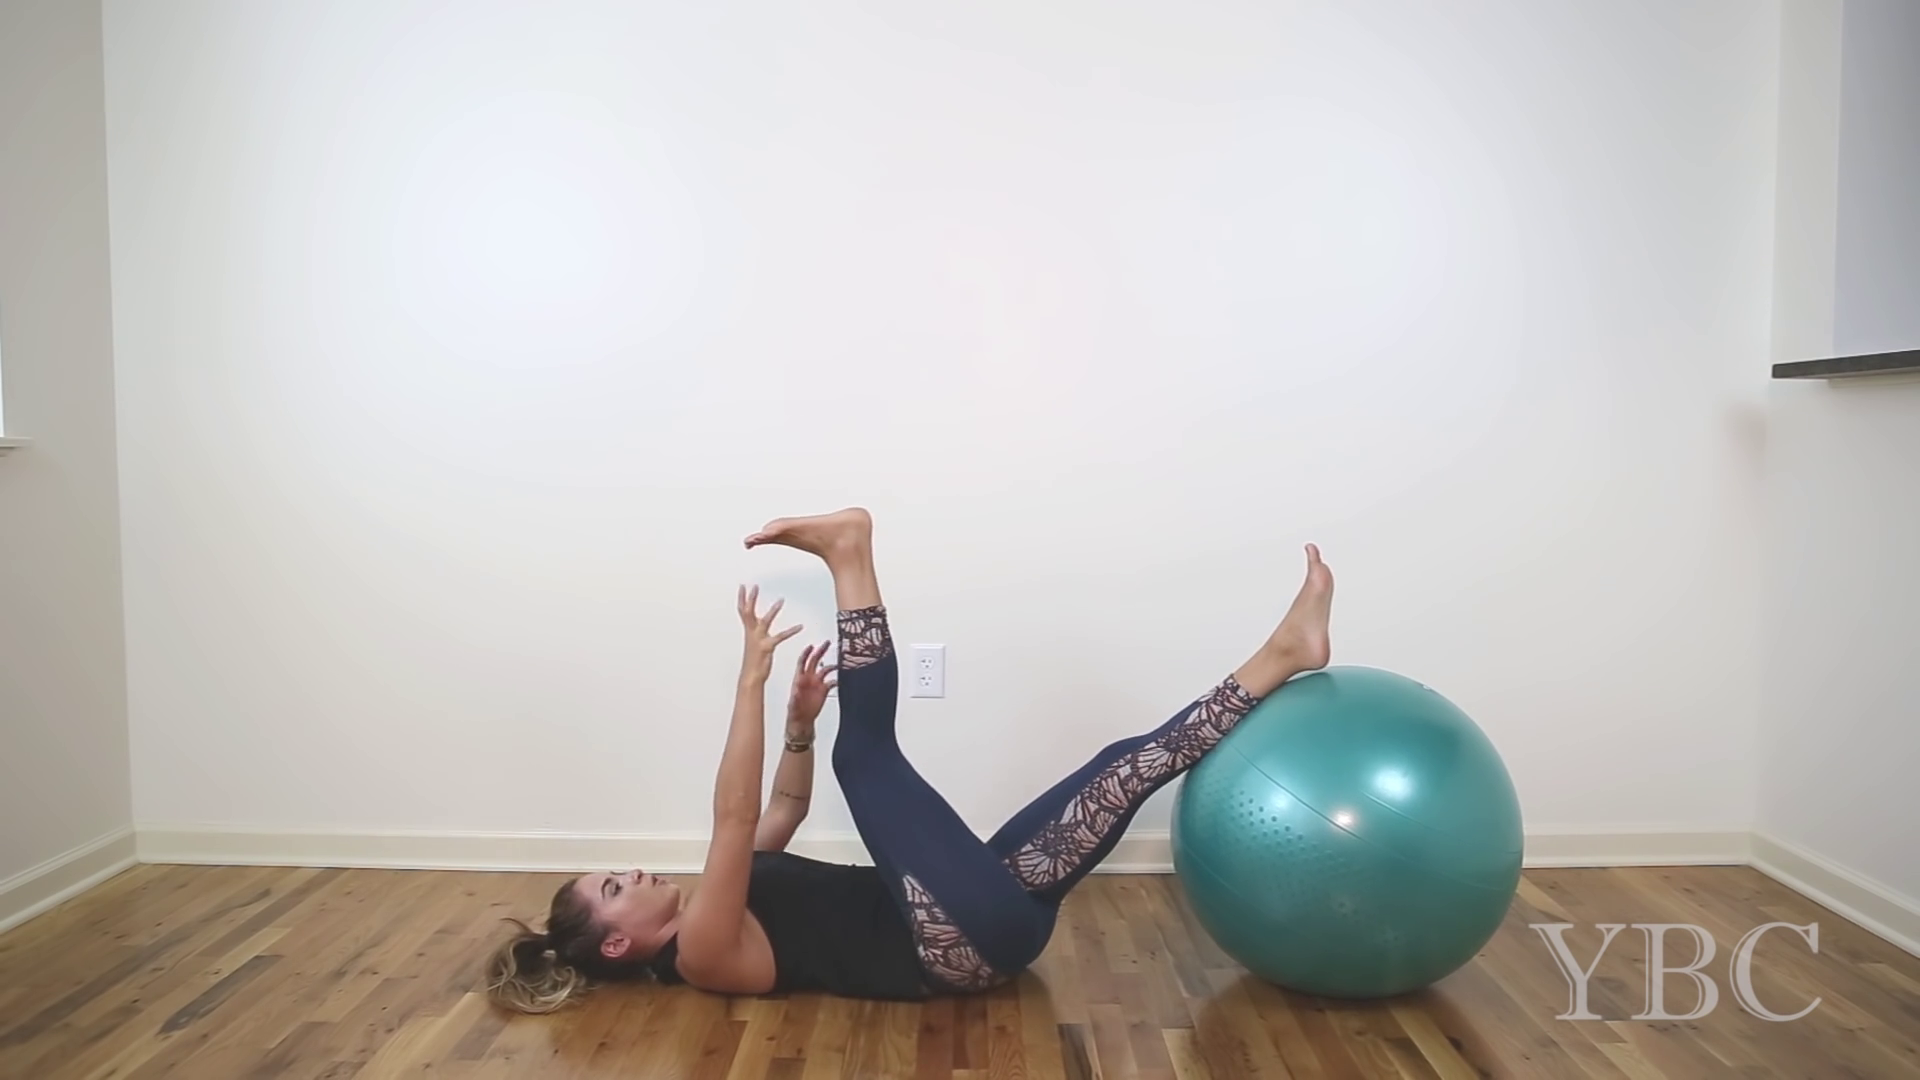yogaball: (1168, 655, 1528, 1019)
